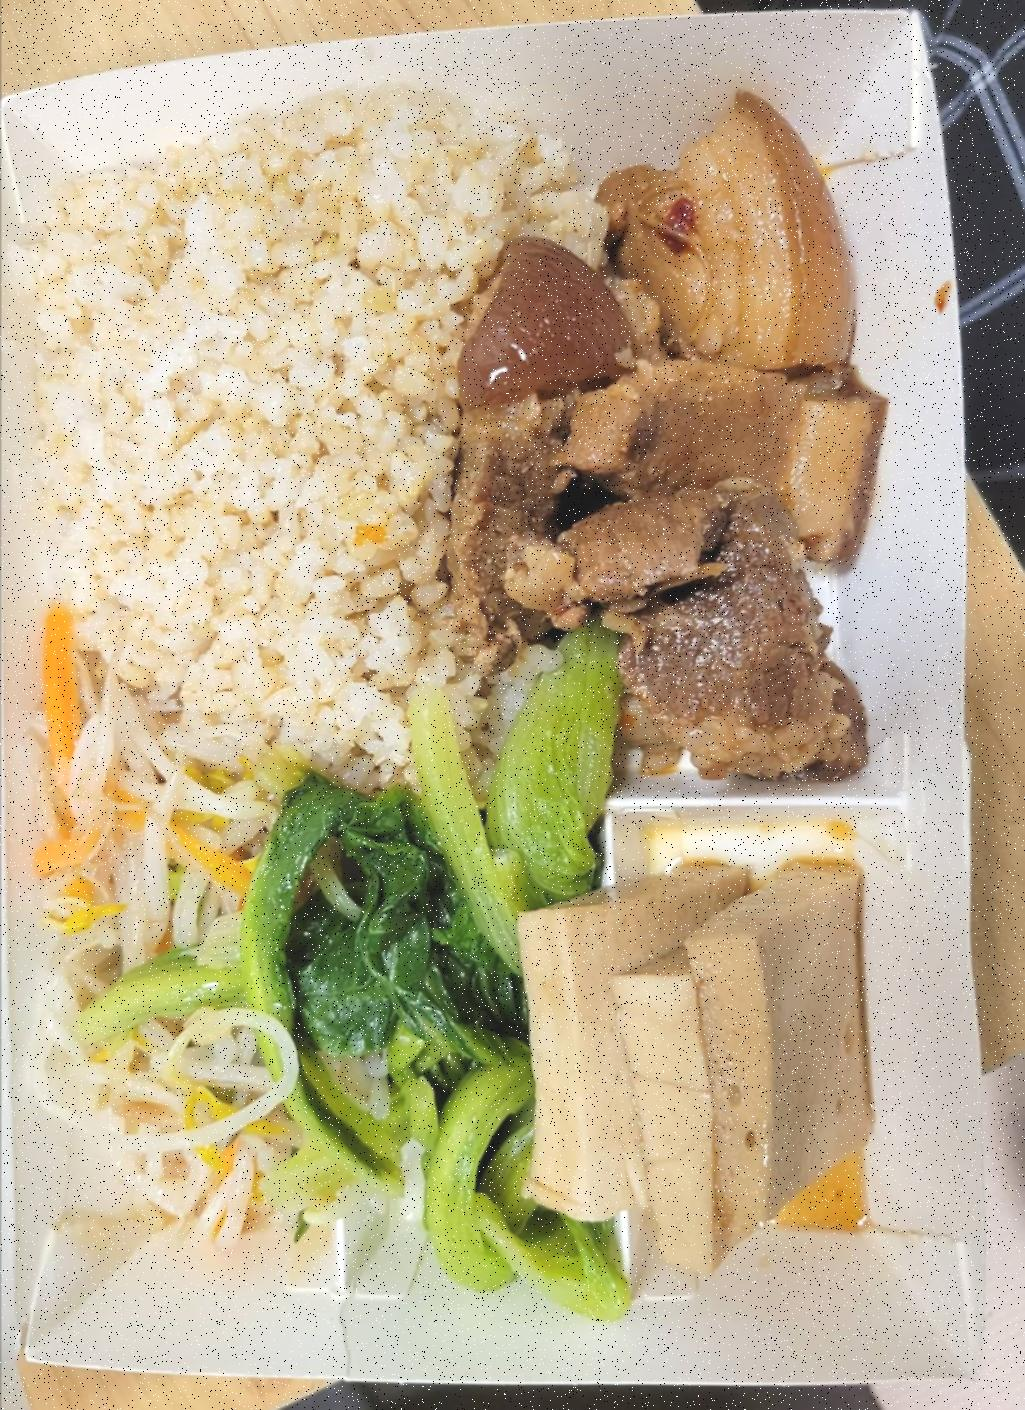big grilled chicken leg: (0, 7, 1007, 1396)
box: (27, 65, 573, 771)
braised fish fillet: (265, 687, 601, 1287), (512, 824, 885, 1288), (24, 697, 276, 1267)
braised pork: (457, 90, 898, 789)
